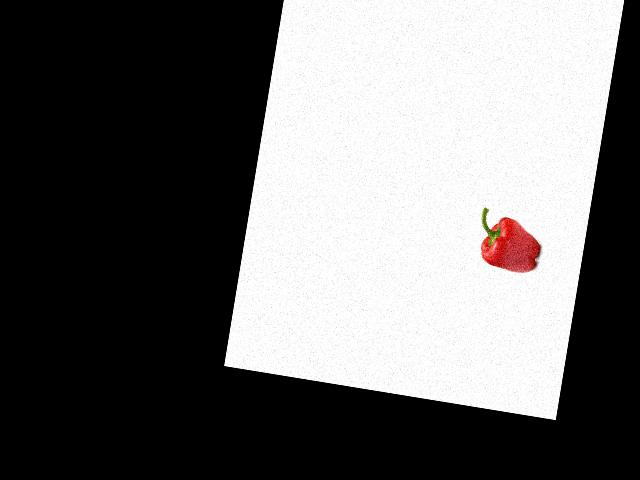bell_pepper: (469, 204, 550, 279)
